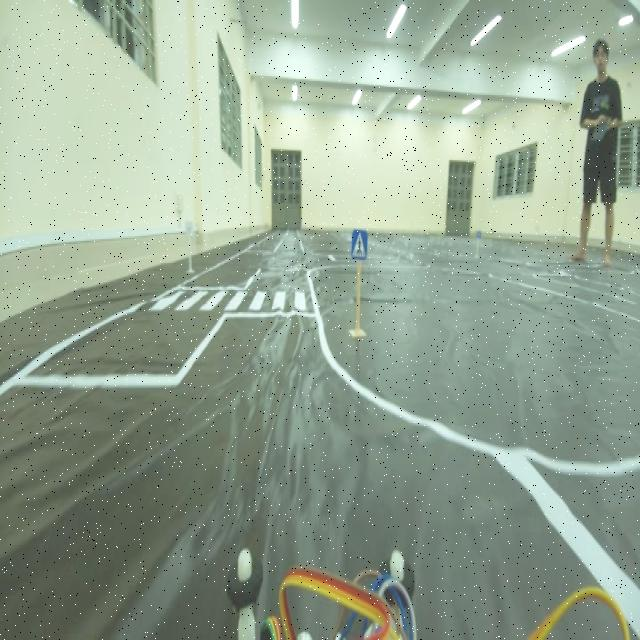crosswalk: (348, 221, 375, 264)
